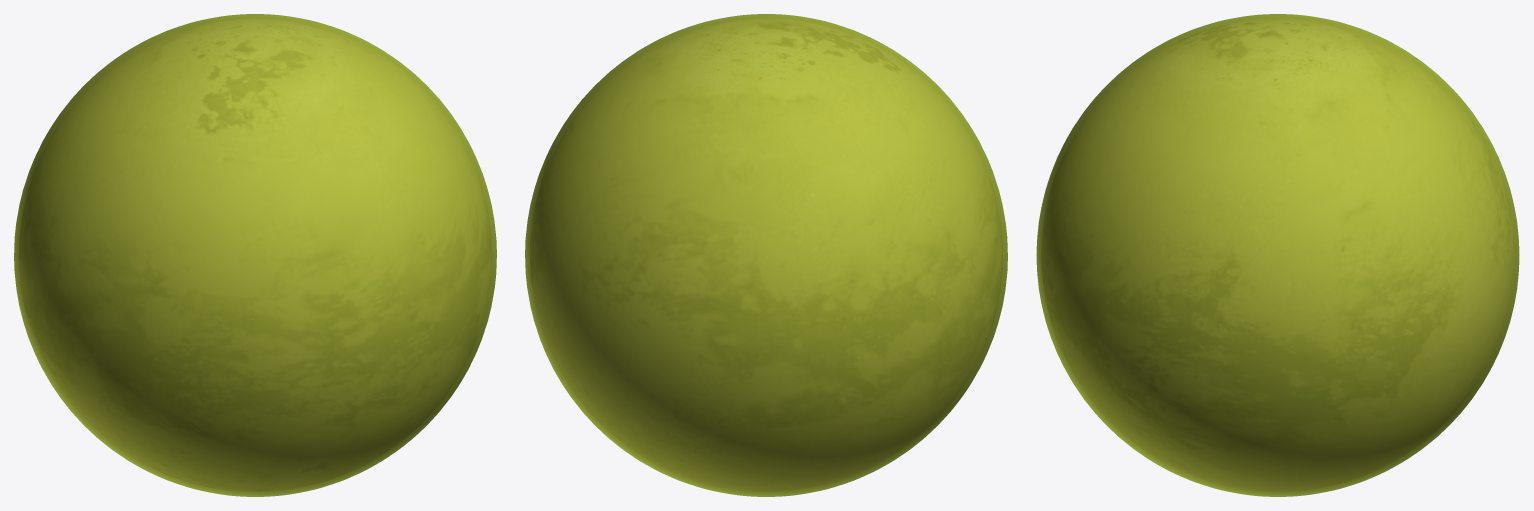
Rendered from titan.glb.
3 renders of one model, left to right at view 1: azimuth 30°, elevation 25°; view 2: azimuth 150°, elevation 25°; view 3: azimuth 270°, elevation 25°, orthographic.
Visible parts, largest first — view 1: Atmosphere, Titan; view 2: Atmosphere, Titan; view 3: Atmosphere, Titan.
Part boxes in pixels (left/top/right/bottom): Atmosphere: left=14, top=14, right=496, bottom=496; Titan: left=19, top=19, right=491, bottom=491; Atmosphere: left=525, top=14, right=1007, bottom=496; Titan: left=530, top=19, right=1002, bottom=491; Atmosphere: left=1036, top=14, right=1519, bottom=496; Titan: left=1042, top=19, right=1513, bottom=491.
Size of the model in its own units: 2.04 by 2.04 by 2.04.
